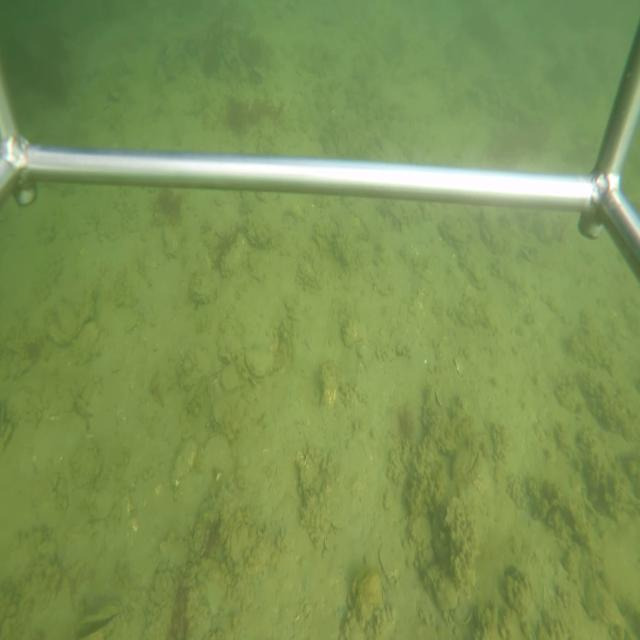Oyster-Open: (239, 346, 277, 388)
